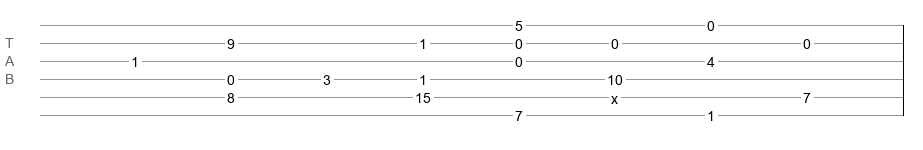0: (227, 72, 235, 82), (515, 36, 523, 46), (515, 54, 523, 64), (611, 36, 619, 46), (707, 18, 715, 28), (803, 36, 811, 46)
1: (131, 54, 139, 64), (419, 36, 427, 46), (419, 72, 427, 82), (707, 108, 715, 118)
10: (607, 72, 623, 82)
15: (415, 90, 431, 100)
3: (323, 72, 331, 82)
4: (707, 54, 715, 64)
5: (515, 18, 523, 28)
7: (515, 108, 523, 118), (803, 90, 811, 100)
8: (227, 90, 235, 100)
9: (227, 36, 235, 46)
x: (611, 91, 618, 99)
